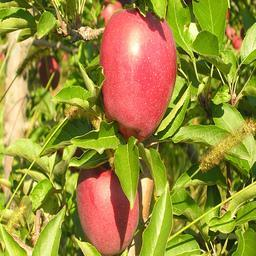apple: (98, 8, 177, 142), (74, 165, 140, 254)
